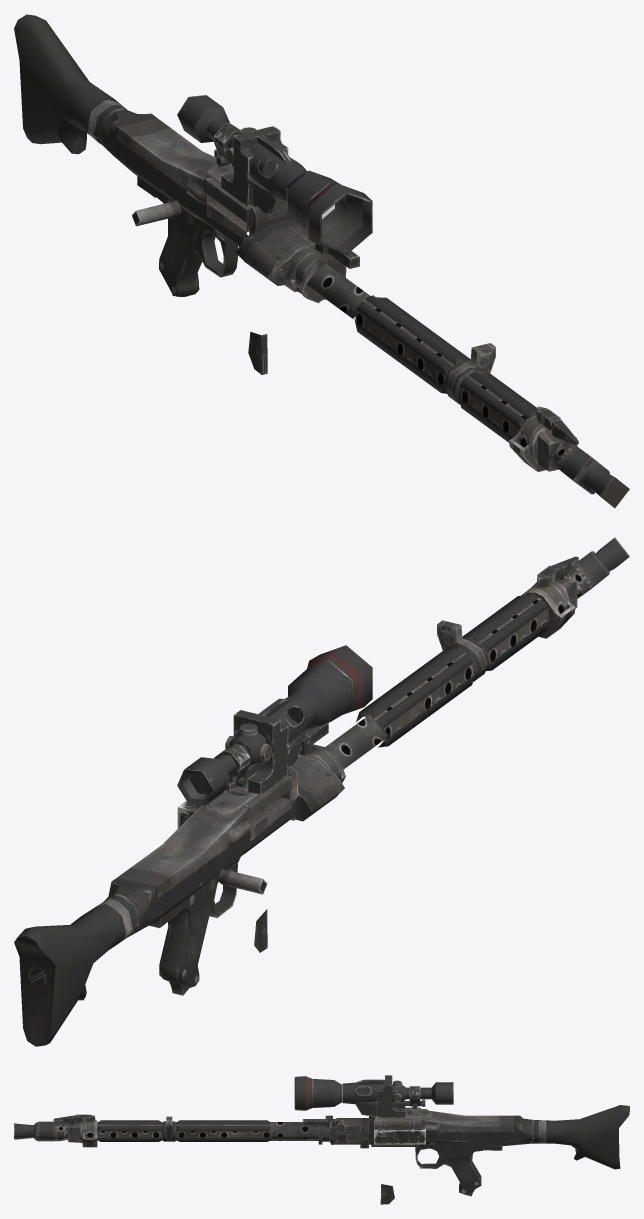
File: dlt19x.lod1.glb
3 views of the same model, one above another, from view 1: azimuth 30°, elevation 25°; view 2: azimuth 150°, elevation 25°; view 3: azimuth 270°, elevation 25° (orthographic). The views are drawn at different scales.
Bounding box in the file's own units: 0.1291 × 0.2793 × 1.22.
3 materials, 2 textured.
